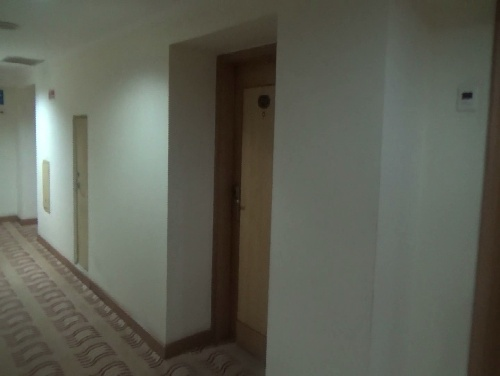door: (206, 44, 294, 368), (68, 108, 96, 277)
